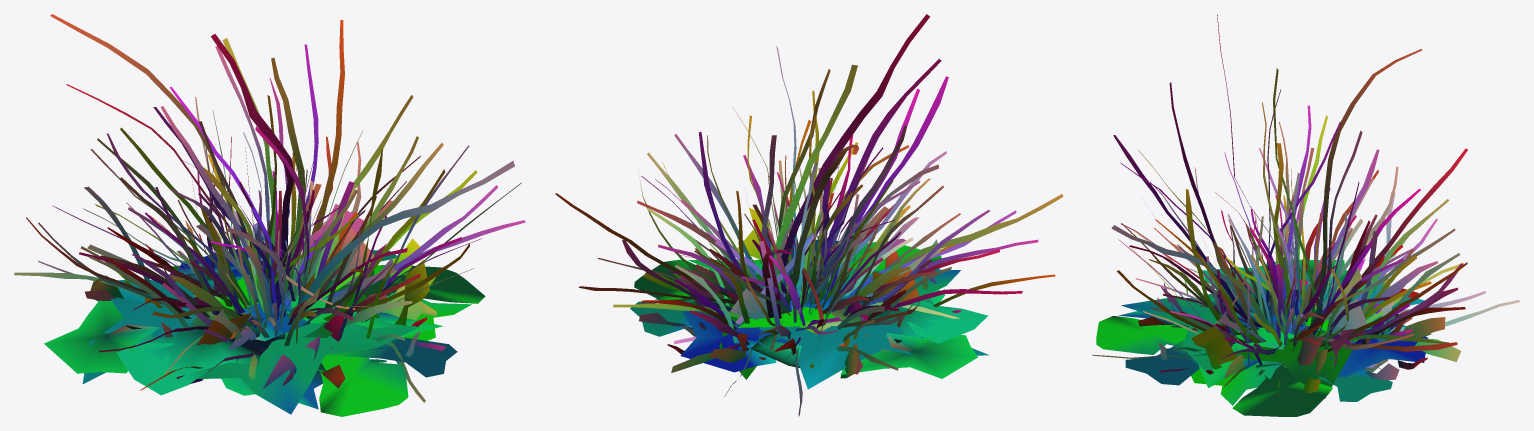
The model's file is Wild_Grass_vdilbaiia_Mid_vdilbaiia_VarC_LOD0.fbx.
The picture shows the model from 3 angles, left to right: view 1: azimuth 30°, elevation 25°; view 2: azimuth 150°, elevation 25°; view 3: azimuth 270°, elevation 25°; orthographic projection. The views are drawn at different scales.
Parts seen in each view (by area): view 1: _bmap_VarC_LOD1; view 2: _bmap_VarC_LOD1; view 3: _bmap_VarC_LOD1.
Part boxes in pixels (x1,y1,x2,y2): _bmap_VarC_LOD1: [14, 14, 525, 416]; _bmap_VarC_LOD1: [555, 14, 1063, 416]; _bmap_VarC_LOD1: [1092, 14, 1519, 416].
Size of the model in its own units: 87.87 by 68.91 by 91.6.
